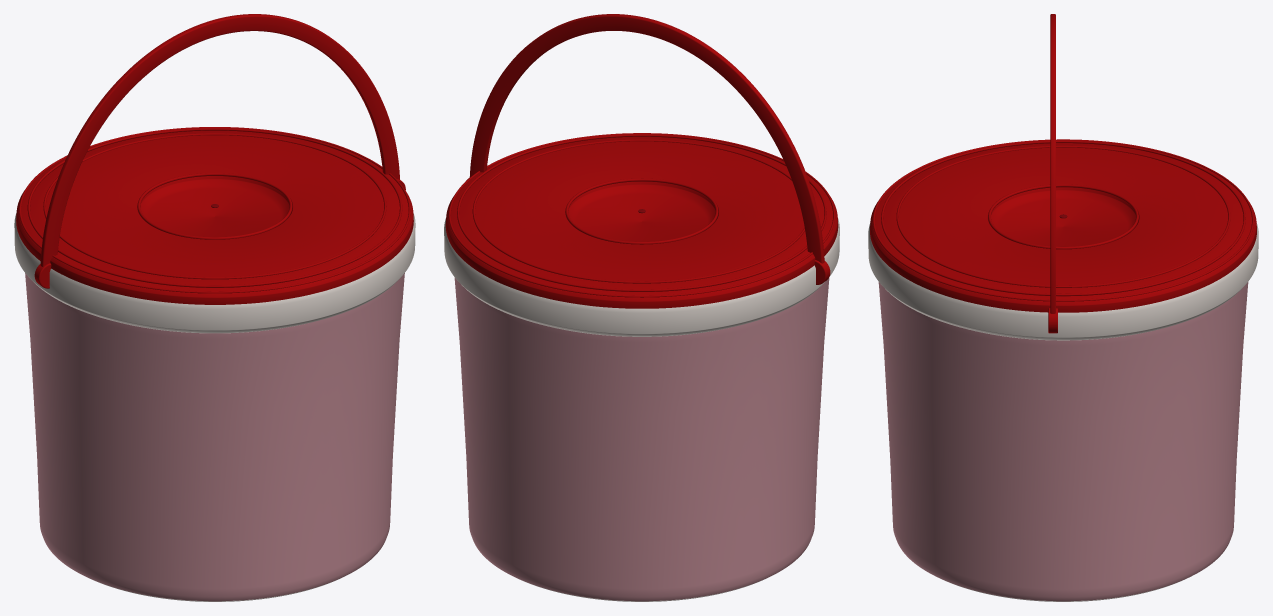
File: product-38-circle-container.glb
3 renders of one model, left to right at view 1: azimuth 30°, elevation 25°; view 2: azimuth 150°, elevation 25°; view 3: azimuth 270°, elevation 25°, orthographic. The views are drawn at different scales.
Visible parts, largest first — view 1: 3L pale pink tapered hollow bucket body, glossy red concentric snap lid, broad warm white snap locking rim; view 2: 3L pale pink tapered hollow bucket body, glossy red concentric snap lid, broad warm white snap locking rim; view 3: 3L pale pink tapered hollow bucket body, glossy red concentric snap lid, broad warm white snap locking rim.
Part boxes in pixels (bbox=[...]): 3L pale pink tapered hollow bucket body: bbox=[25, 273, 404, 601]; glossy red concentric snap lid: bbox=[16, 14, 413, 304]; broad warm white snap locking rim: bbox=[14, 213, 415, 333]; 3L pale pink tapered hollow bucket body: bbox=[454, 277, 829, 601]; glossy red concentric snap lid: bbox=[445, 14, 838, 308]; broad warm white snap locking rim: bbox=[444, 218, 839, 336]; 3L pale pink tapered hollow bucket body: bbox=[878, 282, 1248, 601]; glossy red concentric snap lid: bbox=[870, 14, 1256, 333]; broad warm white snap locking rim: bbox=[868, 223, 1258, 340].
Bounding box in the file's own units: 0.2202 × 0.2953 × 0.2084.
Materials: 5 (5 with a texture image).
